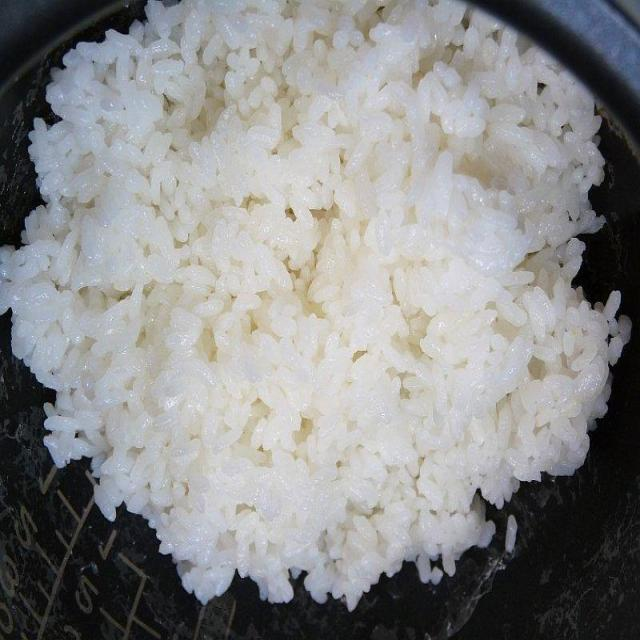nasi_putih: (4, 0, 624, 614)
